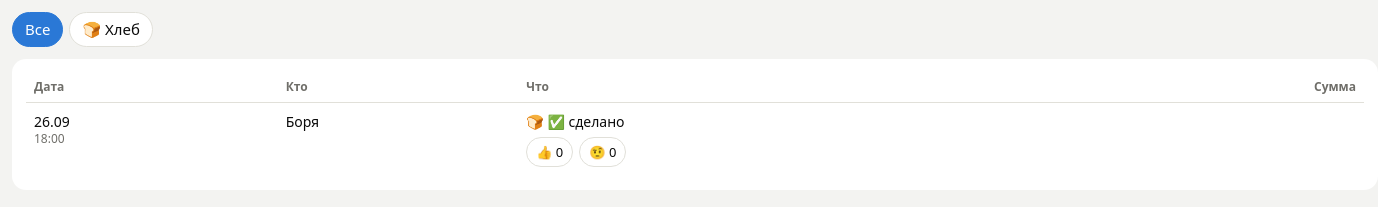
it: shopping, money and votes › votes on a roommate's record
Step 1. Click the button named "Оспорить" → click(603, 152), box [579,137,626,167]
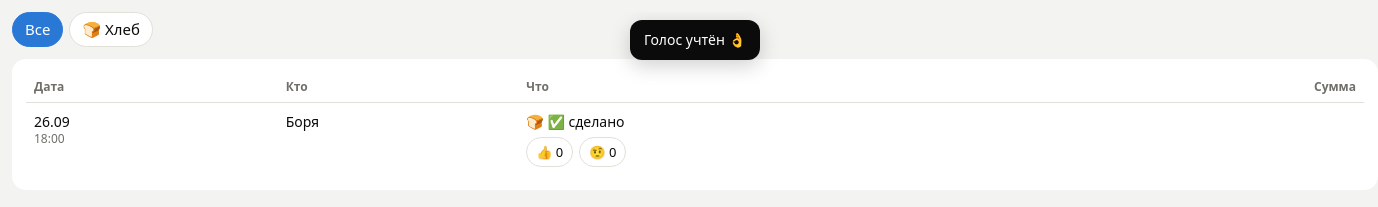
Expected: the button "Голос учтён 👌" is shown, [630,20,760,60]
